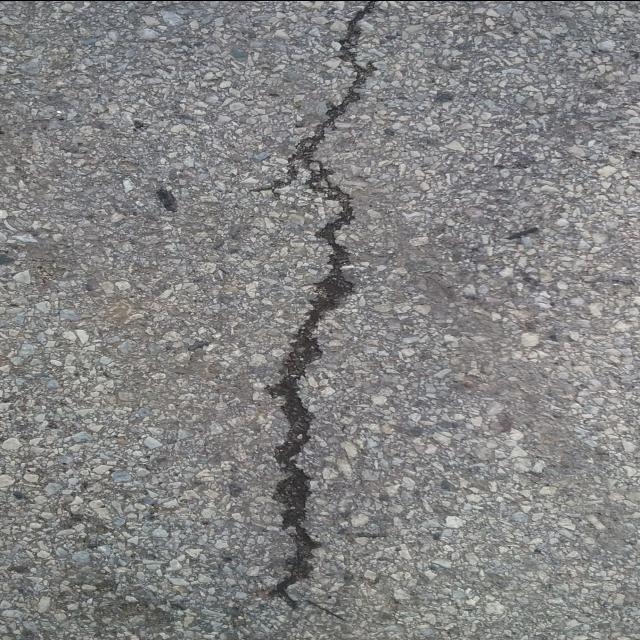Crack: (251, 0, 383, 608)
